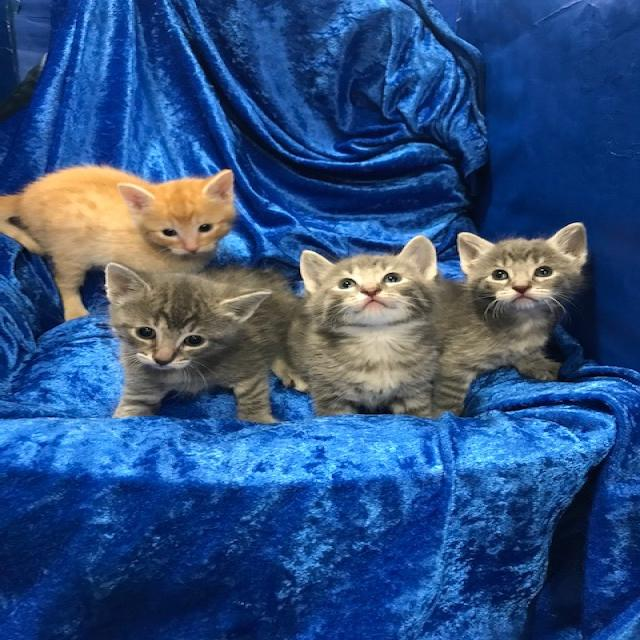maine_coon_cat: (96, 257, 276, 387), (289, 235, 448, 341), (451, 224, 598, 330), (111, 164, 247, 263)
